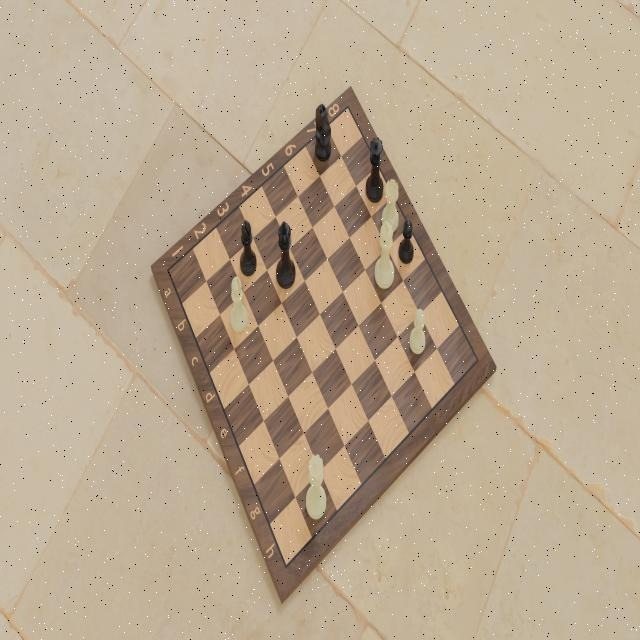black-bishop: (238, 219, 257, 277)
black-king: (273, 215, 297, 289)
black-knight: (311, 101, 332, 166)
black-pawn: (398, 217, 416, 267)
black-queen: (366, 136, 385, 204)
white-bishop: (225, 274, 250, 335)
white-king: (373, 219, 395, 295)
white-pawn: (409, 307, 427, 361)
white-queen: (304, 454, 328, 526)
white-rook: (380, 179, 399, 233)
